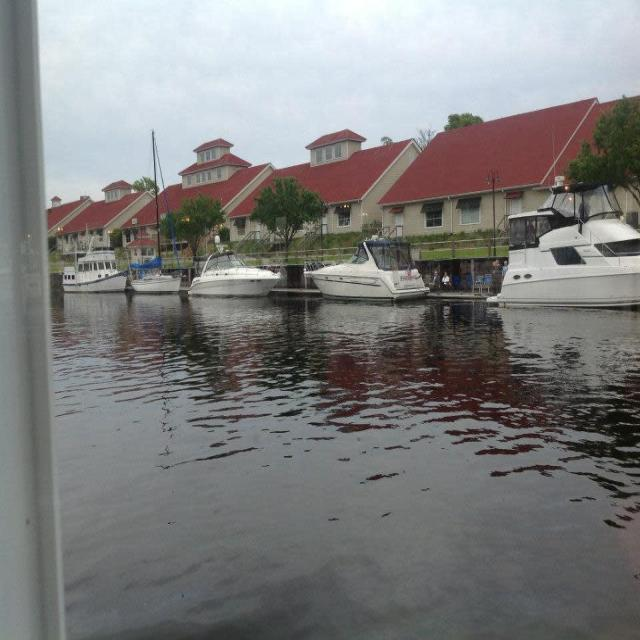houseboat: (494, 205, 640, 314), (307, 232, 422, 303), (183, 244, 278, 299), (58, 246, 124, 293)
sailboat: (128, 123, 182, 294)
